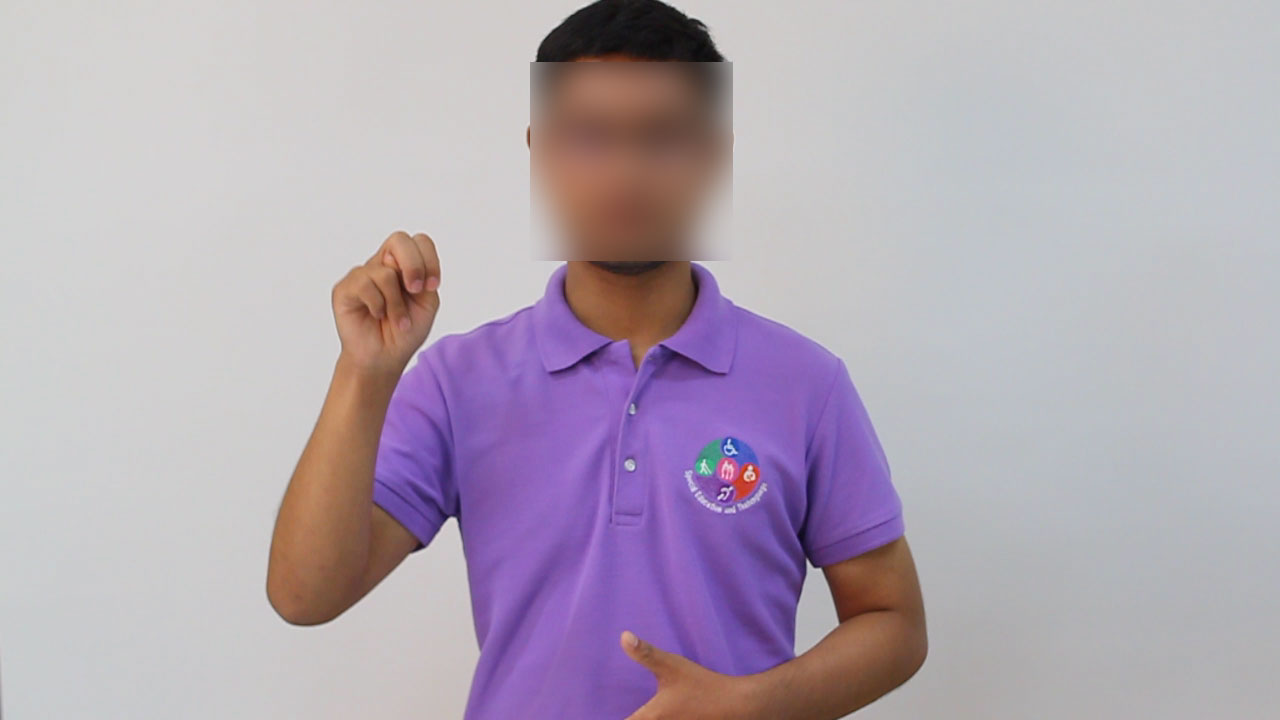nor: (316, 217, 456, 362)
